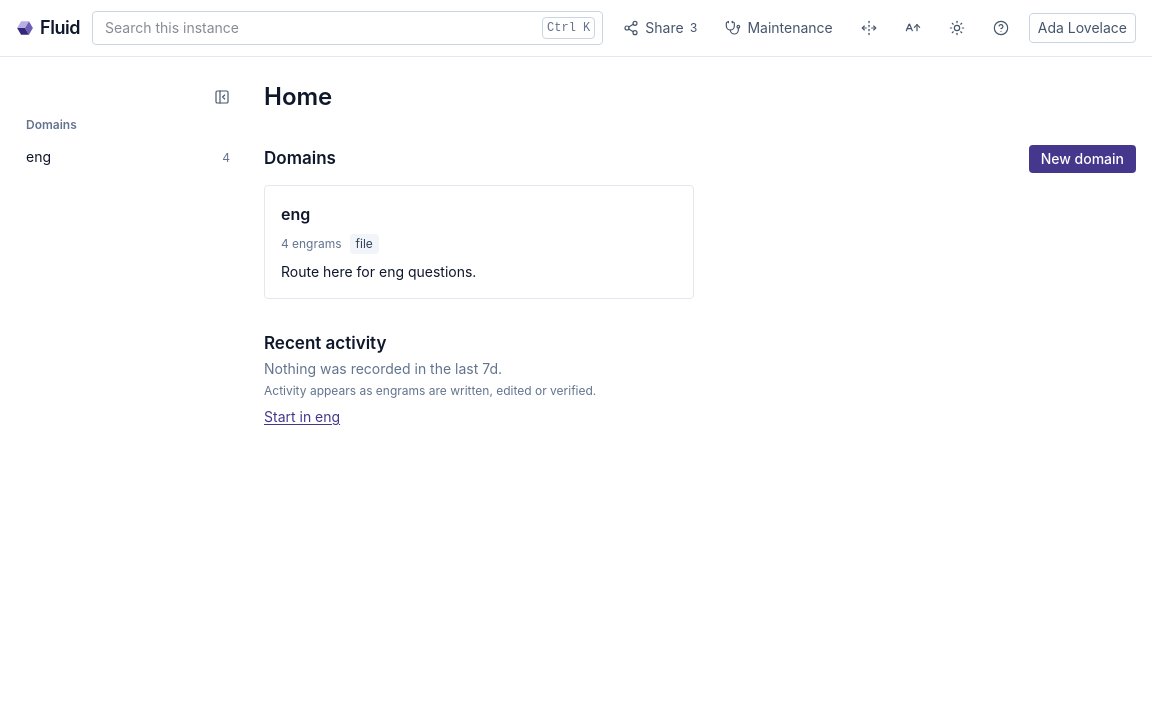
Test: the top bar's share action › badges a domain whose chain is wedged before anybody picks it
Expected: the heading "Home" is shown, [264,82,332,111]
What coordinates should you click on to do the following:
click the button with aria-label "Share changes"
I would click on:
 (660, 28)
Its box is [615,12,705,44].
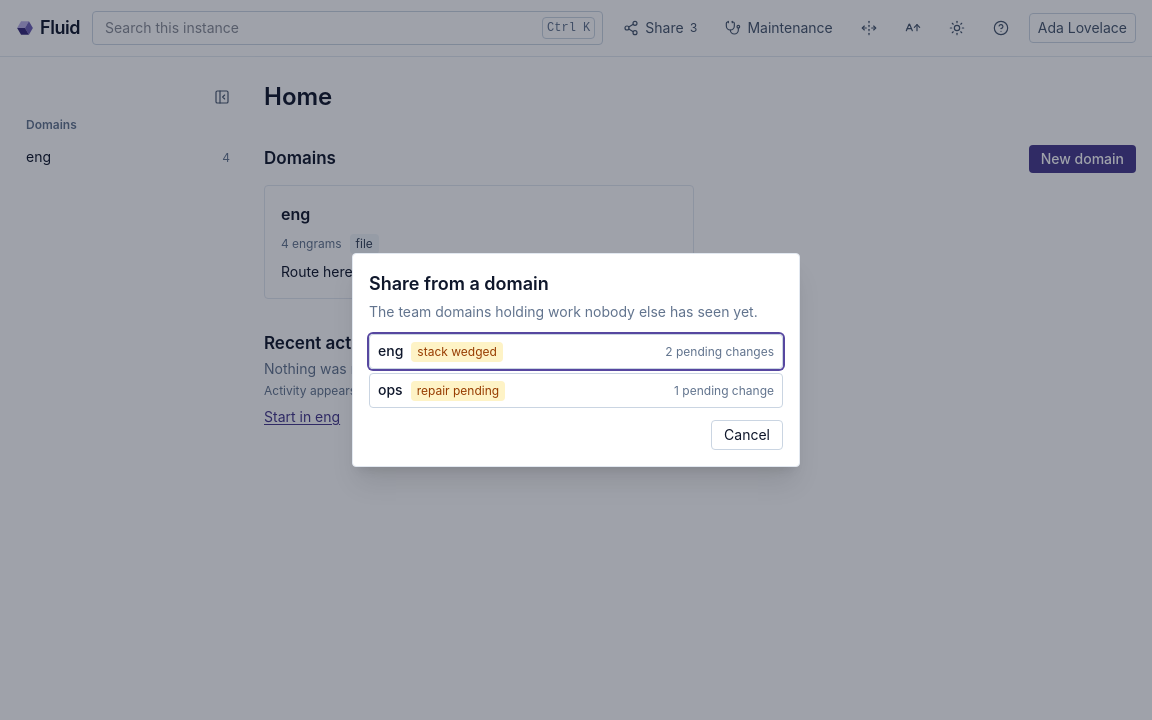
Result: the text "stack wedged" is shown at [411,342,503,362]
Result: the text "repair pending" is shown at [411,381,505,401]
Result: the button with aria-label "eng - 2 pending changes, stack wedged" is shown at [369,334,783,369]
